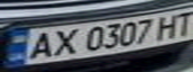0: (81, 24, 106, 53), (118, 19, 139, 47)
3: (103, 20, 124, 50)
7: (133, 16, 160, 44)
A: (21, 29, 60, 61)
H: (151, 11, 184, 39)
T: (169, 9, 193, 36)
X: (45, 26, 81, 57)
